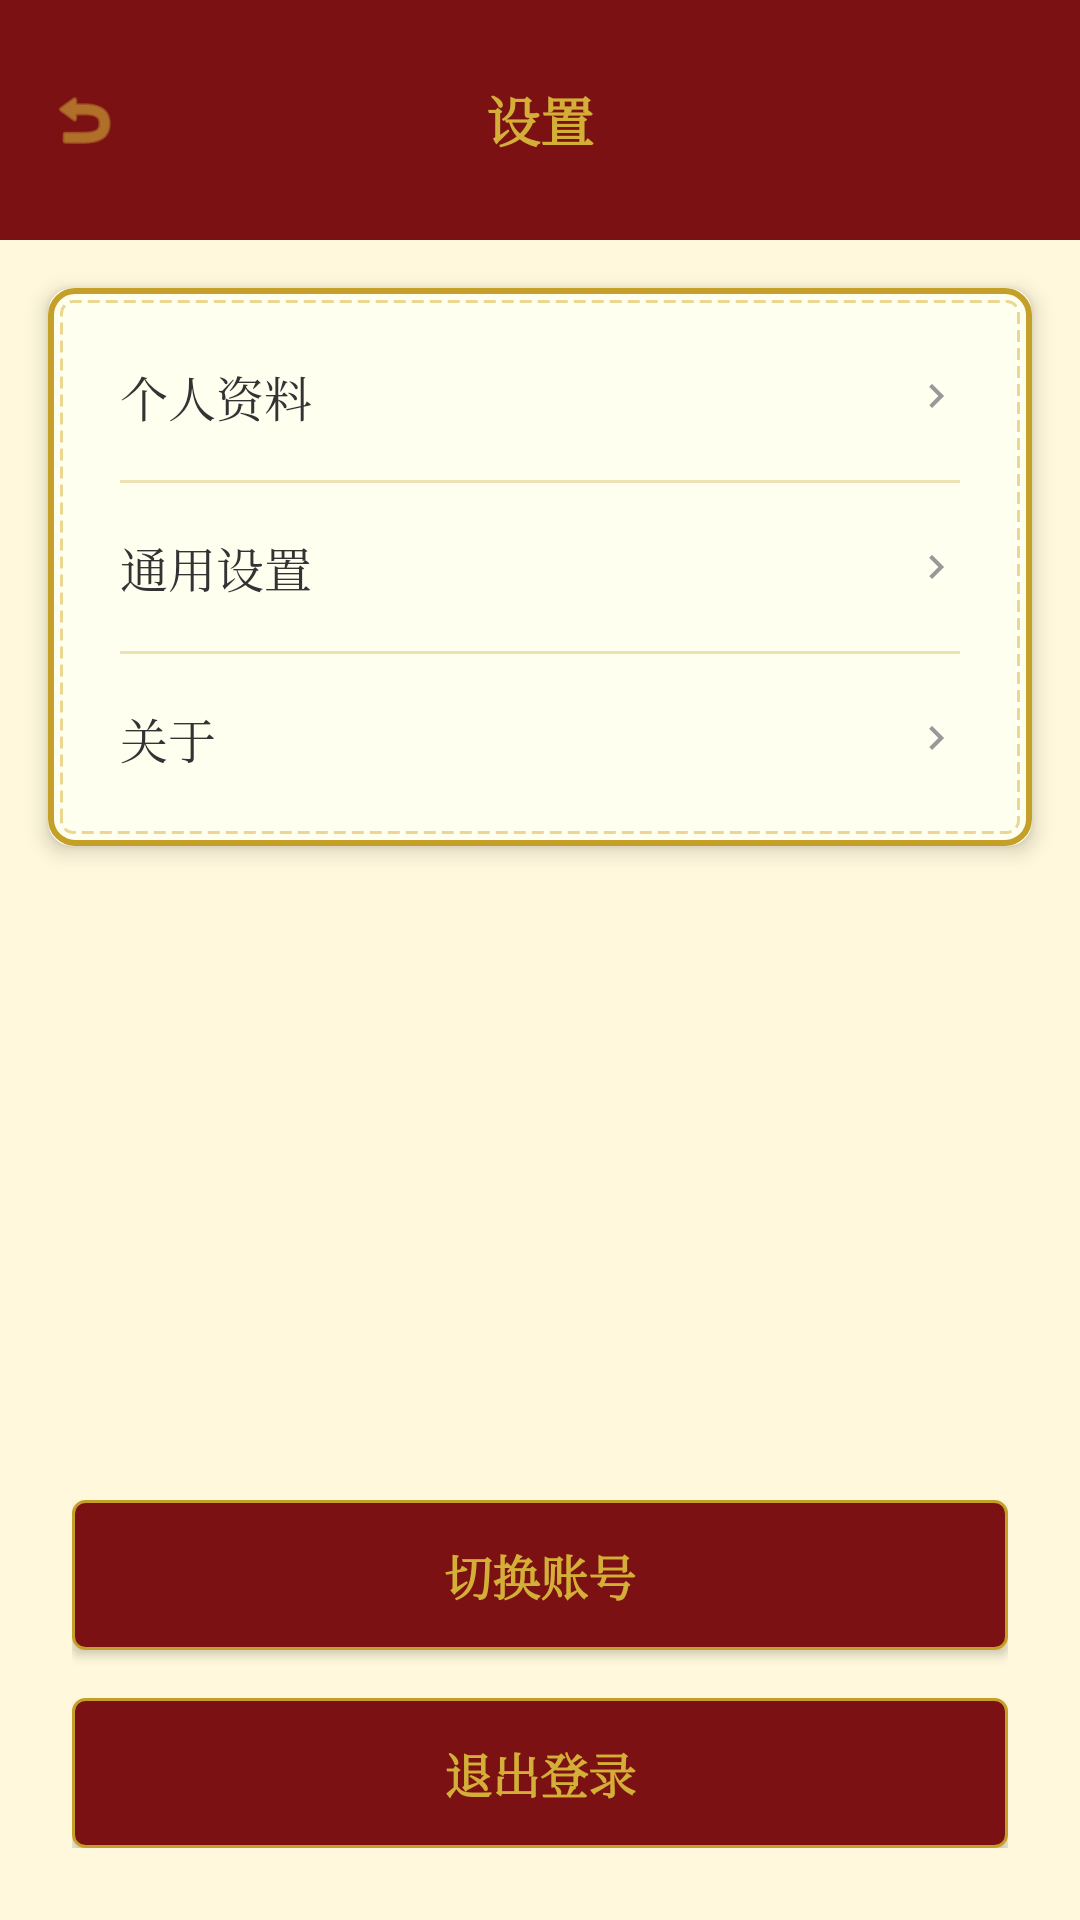

Where to tap for icons on this 1080×1920 app screen, as [x,y]:
arrow right: [936,396], [936,567], [936,738]
revert: [85,120]
